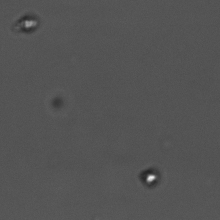Living Cell: (140, 165, 162, 189), (17, 10, 39, 33)
